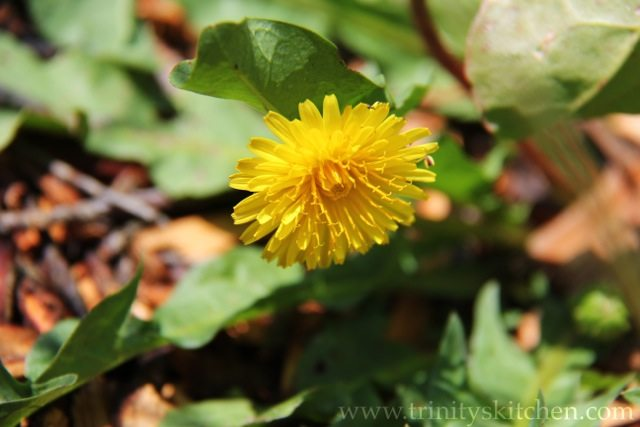dandelion: (228, 116, 434, 250)
